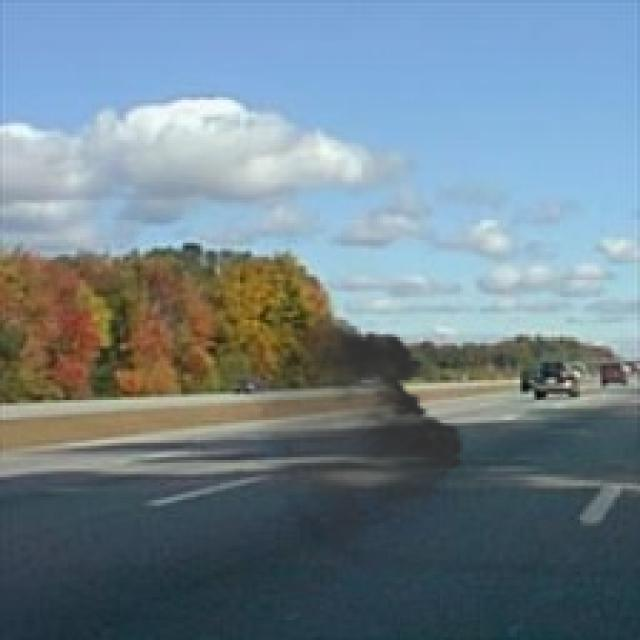smoke: (220, 312, 474, 552)
